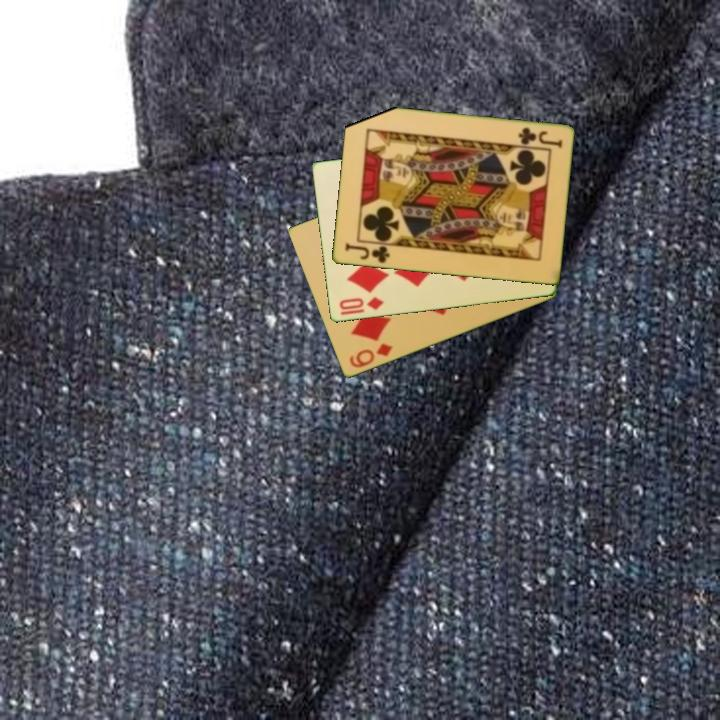10d: (336, 293, 386, 318)
6d: (346, 340, 395, 371)
Jc: (341, 240, 393, 266), (515, 124, 565, 150)
